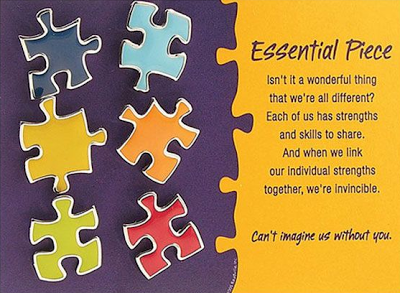puzzle piece: (111, 90, 210, 189)
